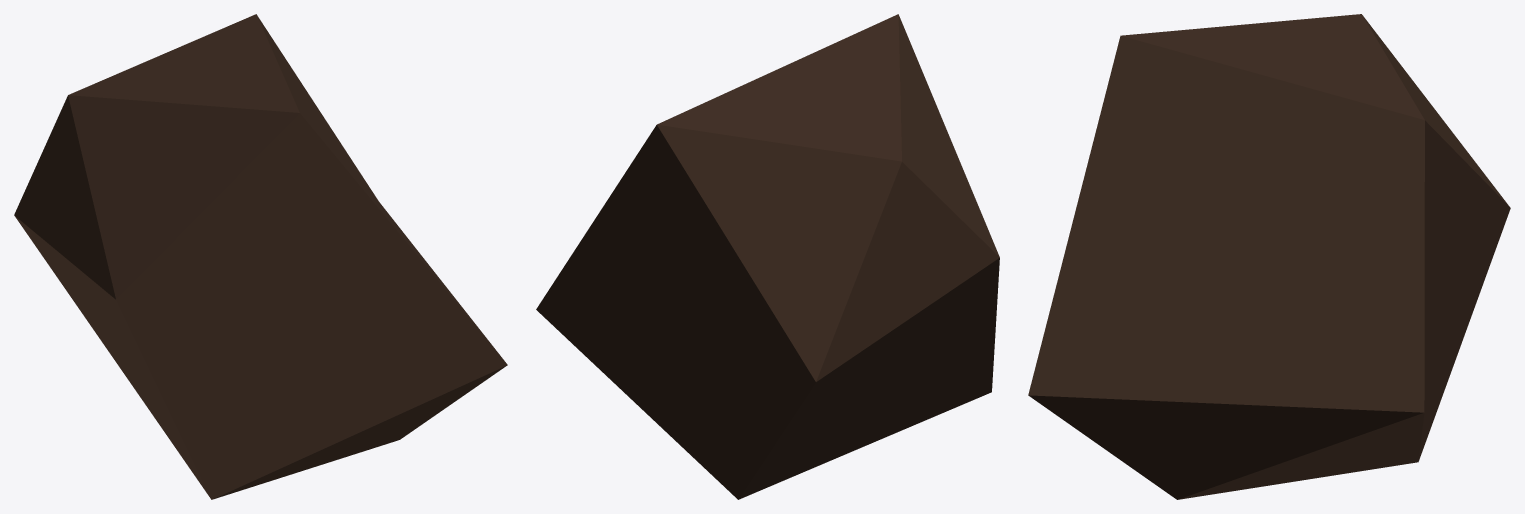
Rendered from Gingerbread_Boulder.fbx.
The picture shows the model from 3 angles, left to right: view 1: azimuth 30°, elevation 25°; view 2: azimuth 150°, elevation 25°; view 3: azimuth 270°, elevation 25°; orthographic projection. The views are drawn at different scales.
Visible parts, largest first — view 1: Sphere.067; view 2: Sphere.067; view 3: Sphere.067.
Boxes of the visible parts, <box> form: Sphere.067: <box>14,14,507,499</box>; Sphere.067: <box>536,14,999,499</box>; Sphere.067: <box>1028,14,1510,499</box>.
Size of the model in its own units: 115 by 118 by 124.
